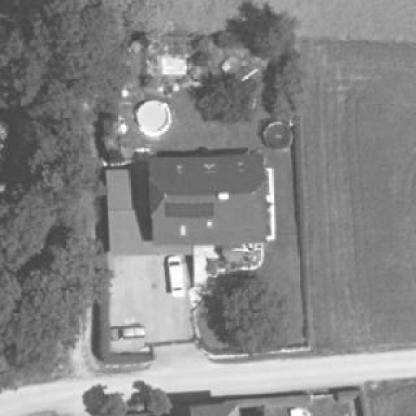solar-pv-panel: (165, 201, 212, 218)
